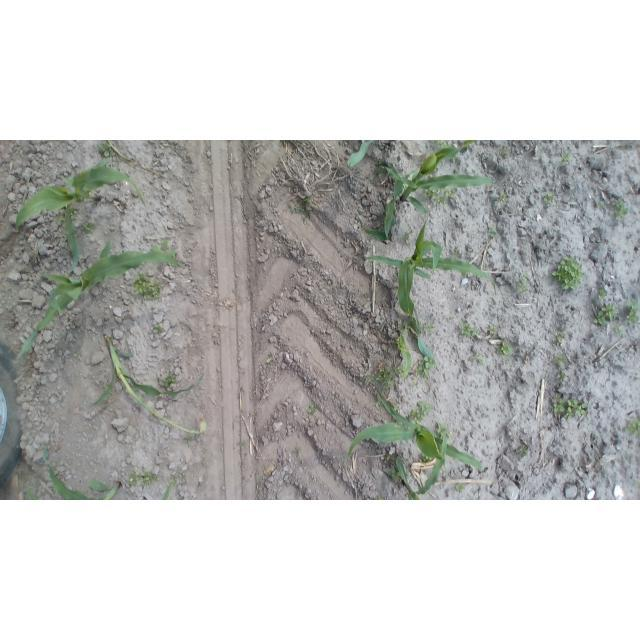Maize: (13, 237, 182, 364), (363, 218, 502, 363), (14, 159, 150, 266), (359, 140, 495, 246), (343, 387, 488, 481), (84, 331, 207, 430), (37, 447, 126, 500), (394, 424, 451, 500), (346, 140, 377, 169), (396, 331, 413, 374), (139, 482, 176, 500)
Weeds: (552, 256, 585, 292), (552, 394, 589, 420), (134, 275, 165, 302), (594, 301, 619, 326), (128, 469, 160, 487), (417, 355, 436, 381), (289, 198, 311, 219), (376, 366, 397, 388), (410, 401, 432, 422), (625, 297, 640, 327), (426, 188, 447, 206), (152, 242, 178, 256), (613, 199, 629, 221), (98, 140, 115, 157), (460, 322, 477, 339), (436, 422, 452, 440), (626, 419, 640, 438), (517, 272, 530, 292), (80, 220, 97, 235), (497, 340, 511, 357), (163, 373, 176, 388), (422, 322, 437, 335), (552, 331, 566, 344), (542, 190, 554, 205), (487, 225, 499, 240), (388, 468, 401, 481), (559, 152, 572, 165), (557, 353, 568, 368), (68, 207, 79, 222), (500, 144, 513, 156), (472, 352, 485, 364), (306, 403, 319, 415), (235, 440, 250, 450), (444, 188, 455, 201), (398, 321, 411, 332), (557, 371, 567, 385), (403, 230, 413, 244), (519, 443, 529, 457), (420, 453, 435, 462), (597, 287, 608, 299), (497, 191, 507, 204), (200, 419, 209, 433), (488, 324, 499, 335), (154, 323, 165, 334), (436, 141, 452, 148), (293, 446, 303, 457), (185, 433, 196, 443), (179, 471, 189, 482), (168, 475, 178, 486), (384, 455, 394, 466), (411, 380, 422, 390), (614, 323, 623, 335), (454, 484, 466, 493), (452, 248, 462, 257), (391, 401, 399, 412), (397, 367, 404, 378), (266, 357, 274, 366), (596, 201, 604, 210), (375, 400, 382, 408), (376, 495, 385, 500)
